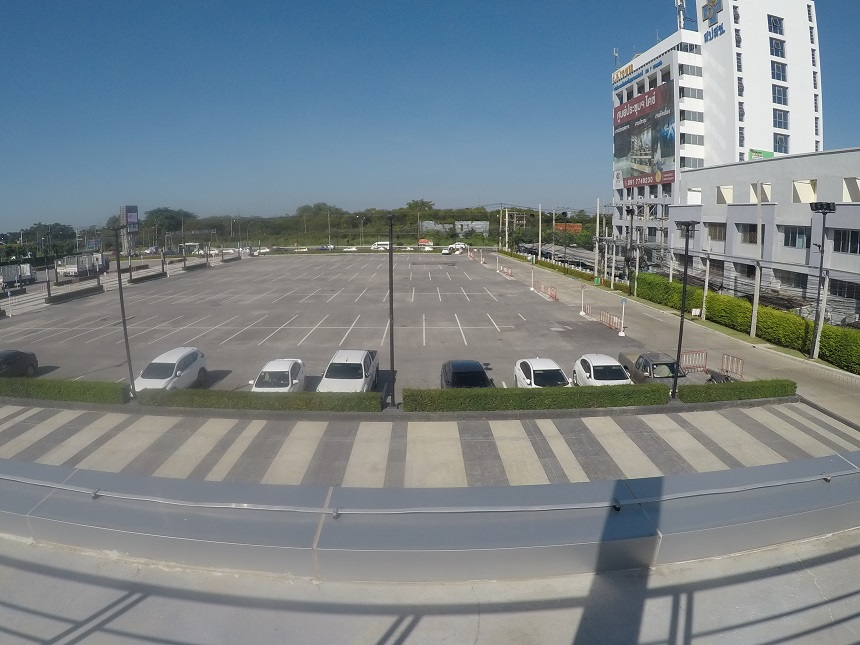busy: (320, 352, 373, 387), (439, 359, 491, 388), (513, 360, 570, 385), (151, 357, 198, 387), (261, 362, 305, 390), (637, 355, 682, 382), (577, 359, 619, 381), (5, 353, 28, 371)
